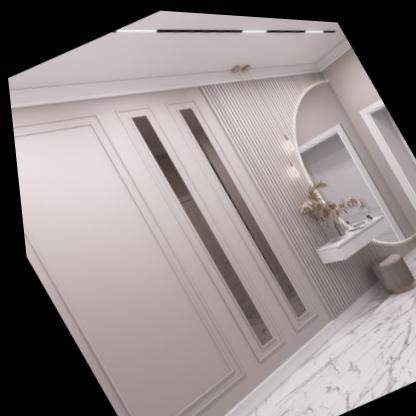Ceramic floor: (216, 245, 416, 416)
